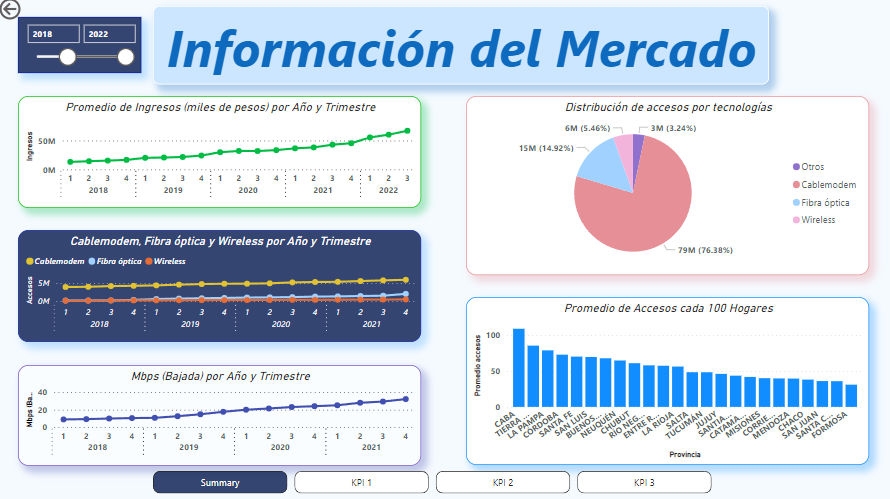

The dashboard page shown, as its layout file describes it:
{"tool":"powerbi","page":{"name":"Summary","canvas":[1280,720],"ordinal":0},"visuals":[{"type":"actionButton","box":[0,0,100,40],"z":0},{"type":"lineChart","title":"Mbps (Bajada) por Año y Trimestre","fields":{"Y":["Avg(Velocidad_media_bajada_Internet_fijo_por_provincia.Mbps (Media de bajada))"],"Category":["Velocidad_media_bajada_Internet_fijo_por_provincia.Año","Velocidad_media_bajada_por_provincia.Trimestre"]},"box":[32,528,576,144],"z":1000},{"type":"lineChart","title":"Cablemodem, Fibra óptica y Wireless por Año y Trimestre","fields":{"Y":["Sum(Serie_trimestral_accesos_Internet_fijo_por_tecnología.Cablemodem)","Sum(Serie_trimestral_accesos_Internet_fijo_por_tecnología.Fibra óptica)","Sum(Serie_trimestral_accesos_Internet_fijo_por_tecnología.Wireless)"],"Category":["año.Año","accesos_Internet_fijo_por_tecnología.Trimestre"]},"box":[32,336,576,160],"z":2000},{"type":"lineChart","title":"Promedio de Ingresos (miles de pesos) por Año y Trimestre","fields":{"Category":["año.Año","Internet_Ingresos_trimestrales.Trimestre"],"Y":["Avg(Internet_Ingresos_trimestrales.Ingresos (miles de pesos))"]},"box":[32,144,576,160],"z":3000},{"type":"textbox","box":[224,16,880,112],"z":4000},{"type":"pieChart","title":"Distribución de accesos por tecnologías","fields":{"Y":["Sum(accesos_Internet_fijo_por_tecnología.Otros)","Sum(accesos_Internet_fijo_por_tecnología.Cablemodem)","Sum(accesos_Internet_fijo_por_tecnología.Fibra óptica)","Sum(accesos_Internet_fijo_por_tecnología.Wireless)"]},"box":[672,144,576,256],"z":5000},{"type":"slicer","fields":{"Values":["año.Año"]},"box":[32,32,176,80],"z":6000},{"type":"clusteredColumnChart","title":"Promedio de Accesos cada 100 Hogares","fields":{"Y":["Avg(Penetración_de _Internet fijo _(accesos _cada_100 hogares).Accesos por cada 100 hogares)"],"Category":["Provincias.Provincia"]},"box":[672,432,576,240],"z":7000}]}

Visuals, with their boxes in screenshot pixels (x1, y1, x2, y2), scaled from the page's 1280x720 canvas onto the 890x499 screenshot:
actionButton: (left=0, top=0, right=70, bottom=28)
"Mbps (Bajada) por Año y Trimestre" lineChart: (left=22, top=366, right=423, bottom=466)
"Cablemodem, Fibra óptica y Wireless por Año y Trimestre" lineChart: (left=22, top=233, right=423, bottom=344)
"Promedio de Ingresos (miles de pesos) por Año y Trimestre" lineChart: (left=22, top=100, right=423, bottom=211)
textbox: (left=156, top=11, right=768, bottom=89)
"Distribución de accesos por tecnologías" pieChart: (left=467, top=100, right=868, bottom=277)
slicer - año.Año: (left=22, top=22, right=145, bottom=78)
"Promedio de Accesos cada 100 Hogares" clusteredColumnChart: (left=467, top=299, right=868, bottom=466)
